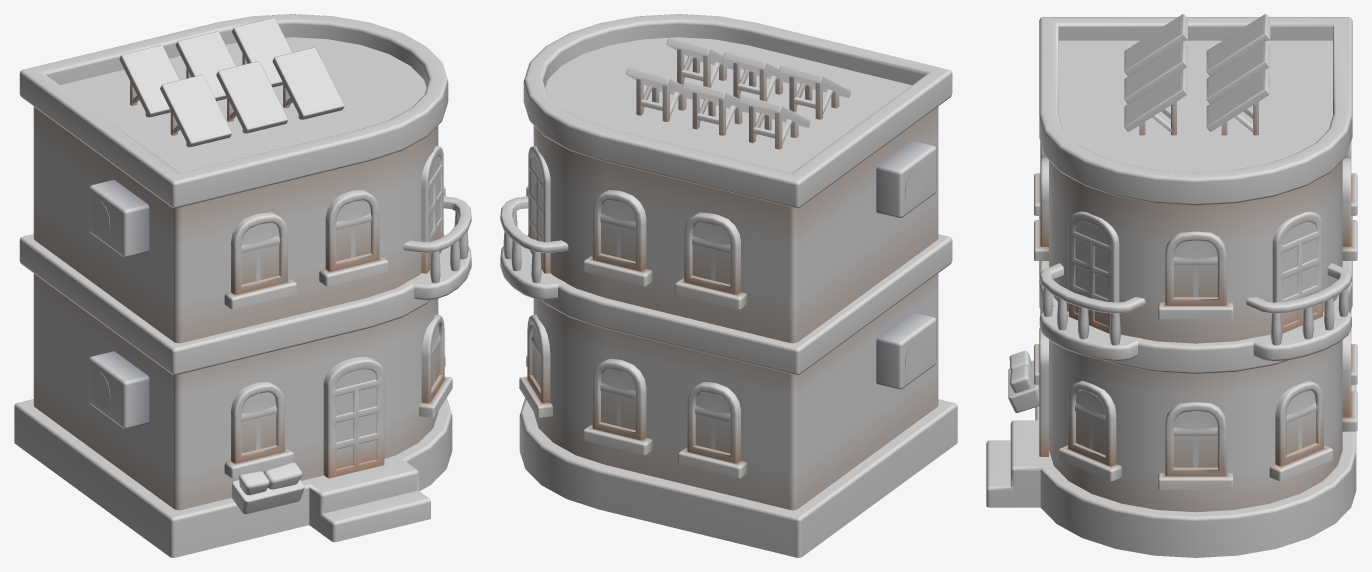
The model's file is NF_Bld_House 02.fbx.
The picture shows the model from 3 angles, left to right: view 1: azimuth 30°, elevation 25°; view 2: azimuth 150°, elevation 25°; view 3: azimuth 270°, elevation 25°; orthographic projection.
Parts seen in each view (by area): view 1: House_02; view 2: House_02; view 3: House_02.
Boxes of the visible parts, x1=… form: House_02: x1=14, y1=14, x2=471, y2=557; House_02: x1=500, y1=14, x2=957, y2=557; House_02: x1=986, y1=14, x2=1357, y2=557.
Size of the model in its own units: 8.39 by 9.21 by 7.59.
